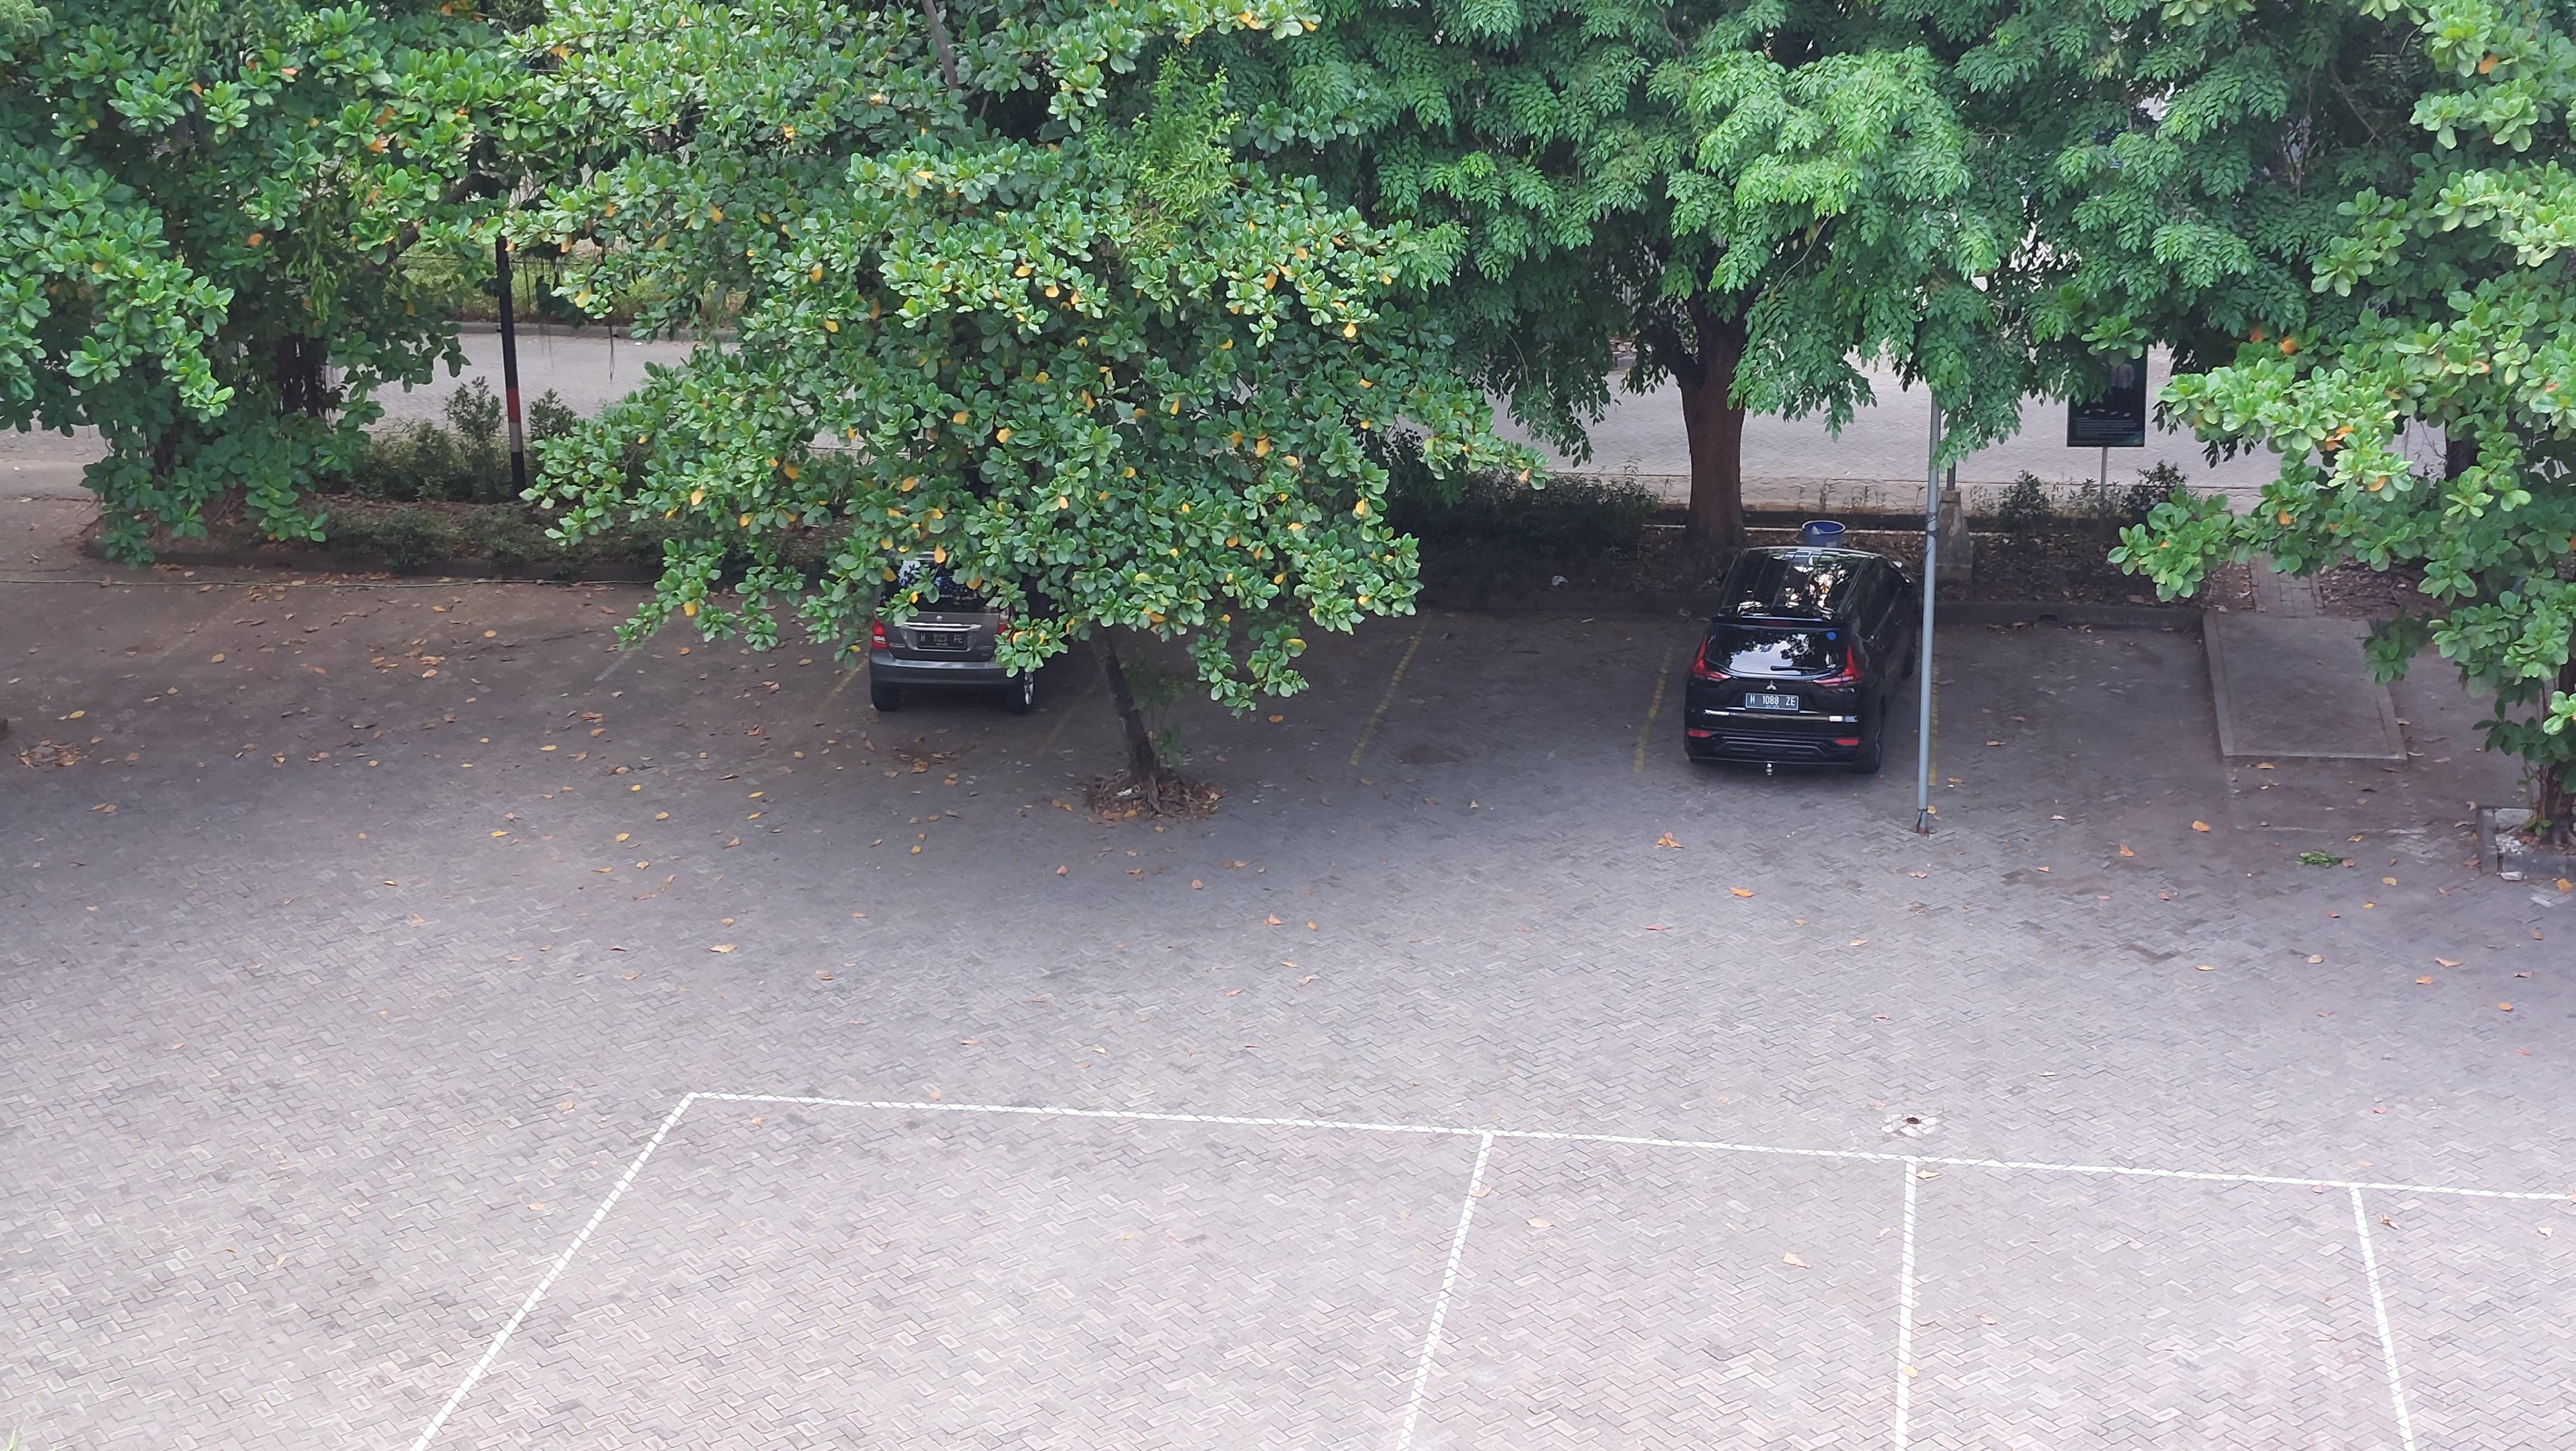empty: (1353, 601, 1684, 767), (1931, 616, 2231, 796)
occupied: (1636, 548, 1934, 786)
